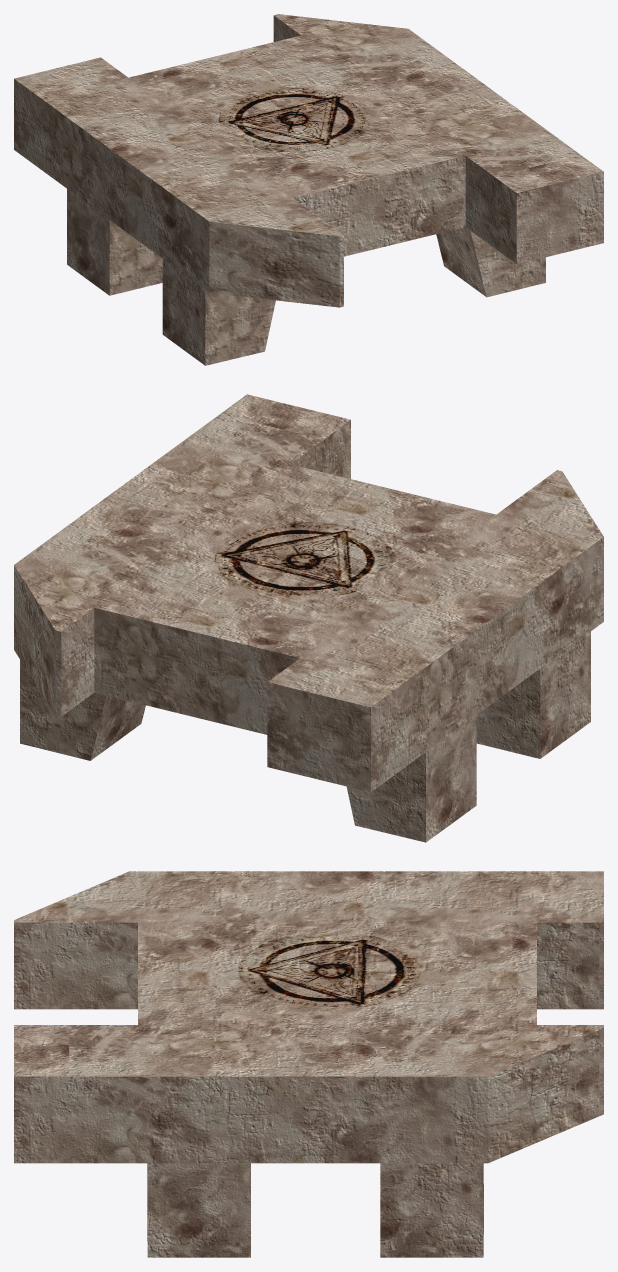
The model's file is massivetable_symbol.fbx.
3 views of the same model, one above another, from view 1: azimuth 30°, elevation 25°; view 2: azimuth 150°, elevation 25°; view 3: azimuth 270°, elevation 25° (orthographic). The views are drawn at different scales.
Visible parts, largest first — view 1: Mesh1; view 2: Mesh1; view 3: Mesh1.
Boxes of the visible parts, <box> form: Mesh1: <box>14,14,603,365</box>; Mesh1: <box>14,394,603,842</box>; Mesh1: <box>14,871,603,1257</box>.
Bounding box in the file's own units: 8.07 × 3.35 × 9.79.
